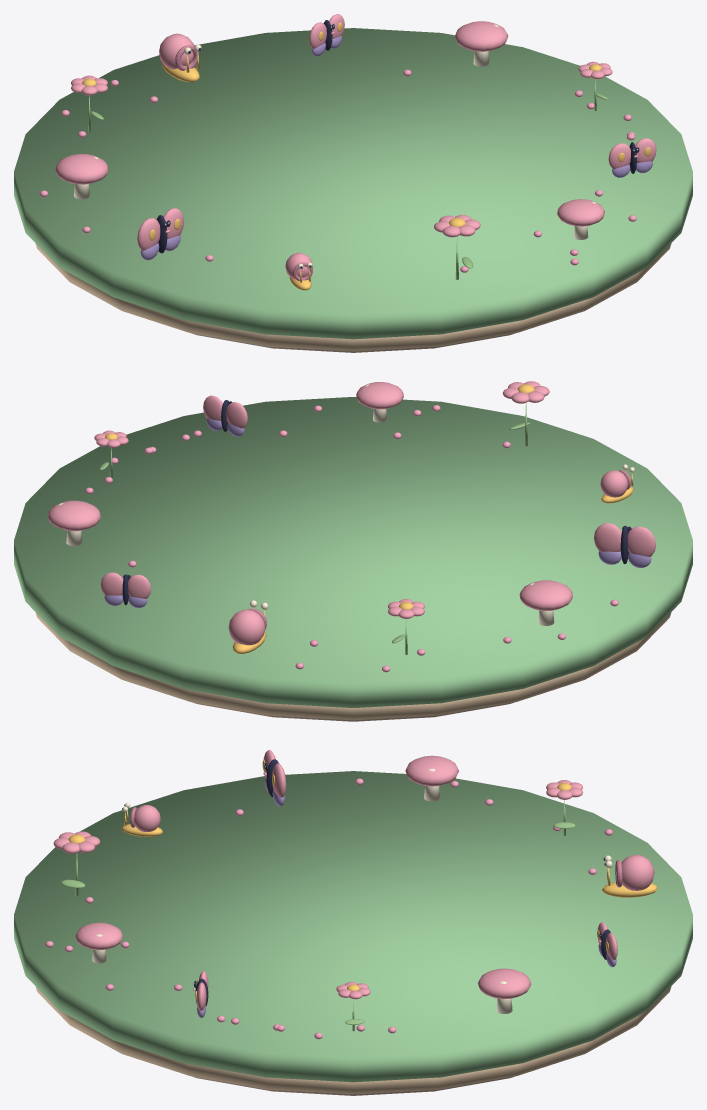
Rendered from world.glb.
3 renders of one model, top to bottom at view 1: azimuth 30°, elevation 25°; view 2: azimuth 150°, elevation 25°; view 3: azimuth 270°, elevation 25°, orthographic.
Visible parts, largest first — view 1: Cone, Cone.001, butterfly.002, snail.001, mushroom.002, mushroom.001, butterfly.003, mushroom.003, butterfly.001, flower.003, snail.002, flower.002 (+2 smaller); view 2: Cone, Cone.001, butterfly.002, mushroom.002, mushroom.001, snail.001, butterfly.001, butterfly.003, mushroom.003, flower.003, snail.002, flower.002 (+2 smaller); view 3: Cone, Cone.001, snail.001, mushroom.002, mushroom.001, mushroom.003, flower.003, snail.002, butterfly.002, flower.002, butterfly.001, flower.001 (+1 smaller).
Boxes of the visible parts, <box> form: Cone: <box>14,28,692,339</box>; Cone.001: <box>35,243,671,351</box>; butterfly.002: <box>137,208,183,260</box>; snail.001: <box>159,33,201,82</box>; mushroom.002: <box>55,154,108,199</box>; mushroom.001: <box>454,21,508,66</box>; butterfly.003: <box>608,138,656,177</box>; mushroom.003: <box>557,199,604,239</box>; butterfly.001: <box>309,14,344,56</box>; flower.003: <box>434,214,480,279</box>; snail.002: <box>285,252,313,290</box>; flower.002: <box>71,75,107,131</box>; Cone: <box>14,397,692,707</box>; Cone.001: <box>35,612,671,720</box>; butterfly.002: <box>594,523,656,567</box>; mushroom.002: <box>519,580,572,625</box>; mushroom.001: <box>48,500,100,546</box>; snail.001: <box>228,600,268,653</box>; butterfly.001: <box>100,572,151,607</box>; butterfly.003: <box>203,395,247,436</box>; mushroom.003: <box>356,382,403,422</box>; flower.003: <box>502,381,549,446</box>; snail.002: <box>600,464,634,503</box>; flower.002: <box>388,599,424,654</box>; Cone: <box>14,771,692,1082</box>; Cone.001: <box>35,986,671,1094</box>; snail.001: <box>602,854,657,897</box>; mushroom.002: <box>405,755,458,801</box>; mushroom.001: <box>477,968,531,1013</box>; mushroom.003: <box>75,922,123,963</box>; flower.003: <box>53,831,100,896</box>; snail.002: <box>121,802,162,836</box>; butterfly.002: <box>262,750,286,806</box>; flower.002: <box>546,780,583,835</box>; butterfly.001: <box>597,922,617,967</box>; flower.001: <box>336,982,370,1031</box>.
Size of the model in its own units: 9.6 by 1.74 by 9.6.
